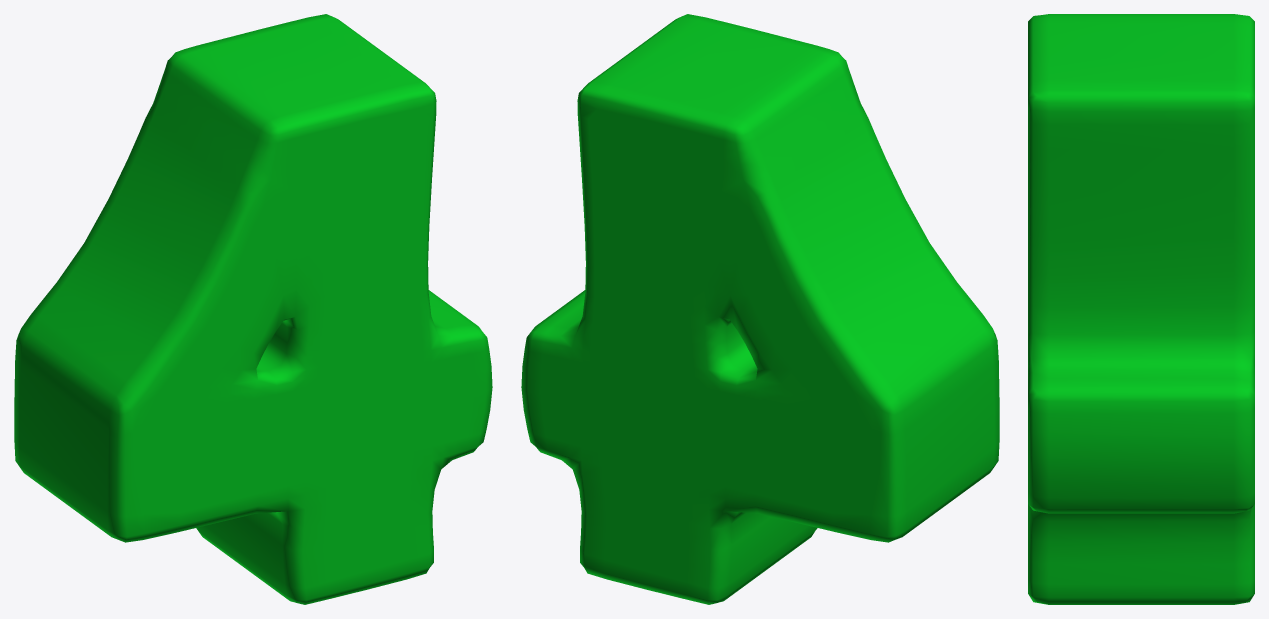
The picture shows the model from 3 angles, left to right: view 1: azimuth 30°, elevation 25°; view 2: azimuth 150°, elevation 25°; view 3: azimuth 270°, elevation 25°; orthographic projection. The views are drawn at different scales.
Parts seen in each view (by area): view 1: A:Mesh4_numbers_0; view 2: A:Mesh4_numbers_0; view 3: A:Mesh4_numbers_0.
Part boxes in pixels (<box>): A:Mesh4_numbers_0: <box>14,14,492,604</box>; A:Mesh4_numbers_0: <box>521,14,999,604</box>; A:Mesh4_numbers_0: <box>1028,14,1254,604</box>.
Bounding box in the file's own units: 27.71 × 34.15 × 13.53.
